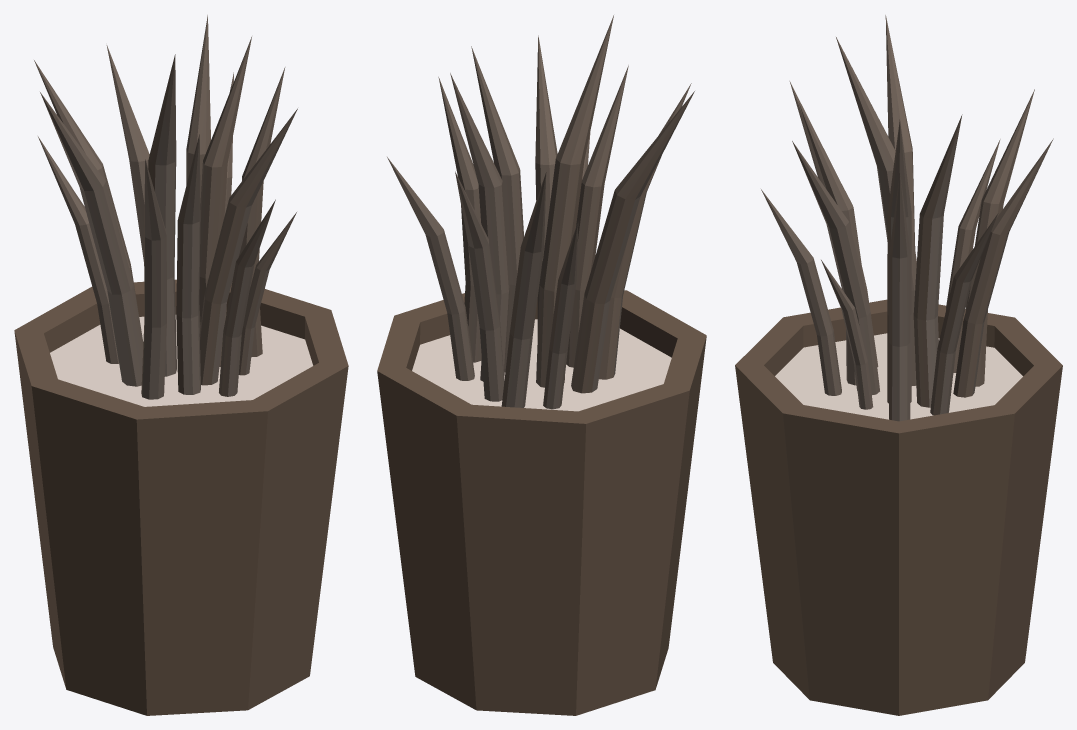
The model's file is Living_Room_flower2.fbx.
3 views of the same model, side by side, from view 1: azimuth 30°, elevation 25°; view 2: azimuth 150°, elevation 25°; view 3: azimuth 270°, elevation 25° (orthographic). The views are drawn at different scales.
Parts seen in each view (by area): view 1: Living_Room_flower2; view 2: Living_Room_flower2; view 3: Living_Room_flower2.
Boxes of the visible parts, x1,y1,x2,y2 form: Living_Room_flower2: (14,15,348,715); Living_Room_flower2: (377,15,706,715); Living_Room_flower2: (735,15,1062,715).
Bounding box in the file's own units: 17.15 × 35.15 × 17.15.
